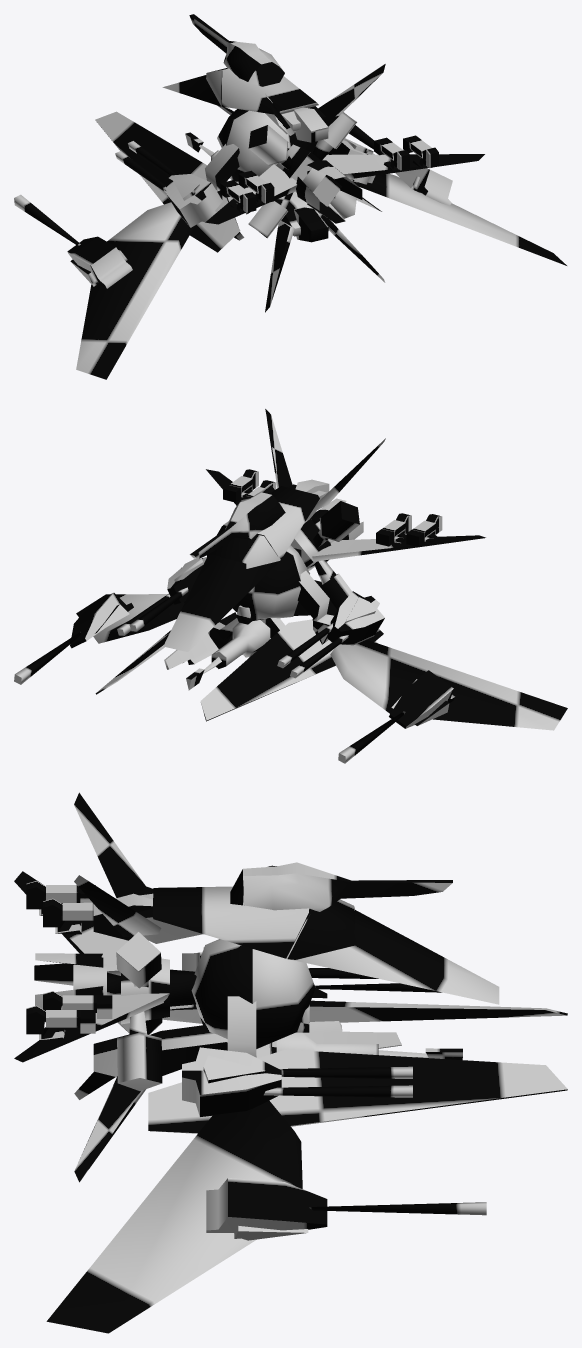
The model's file is pet_10.obj.
3 renders of one model, top to bottom at view 1: azimuth 30°, elevation 25°; view 2: azimuth 150°, elevation 25°; view 3: azimuth 270°, elevation 25°, orthographic. The views are drawn at different scales.
Parts seen in each view (by area): view 1: main; view 2: main; view 3: main.
Boxes of the visible parts, <box> form: main: <box>14,14,566,379</box>; main: <box>14,409,567,763</box>; main: <box>14,792,567,1333</box>.
Bounding box in the file's own units: 111 × 53.37 × 79.44.
Materials: 1 (1 with a texture image).
